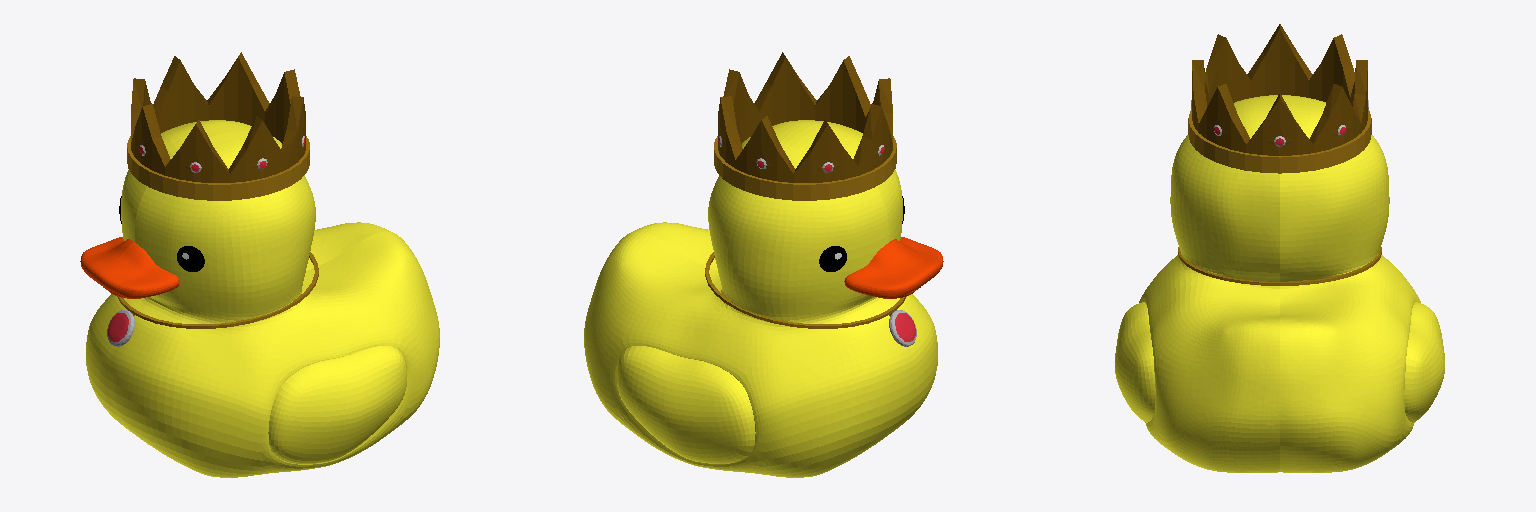
The picture shows the model from 3 angles: view 1: azimuth 30°, elevation 25°; view 2: azimuth 150°, elevation 25°; view 3: azimuth 270°, elevation 25°; orthographic projection.
Visible parts, largest first — view 1: Duck; view 2: Duck; view 3: Duck.
Boxes of the visible parts, box(x1,y1,x2,y2) form: Duck: box(80, 52, 439, 477); Duck: box(584, 52, 943, 477); Duck: box(1115, 24, 1444, 472).
Bounding box in the file's own units: 17.43 × 18.02 × 15.23.
1 materials, 1 textured.